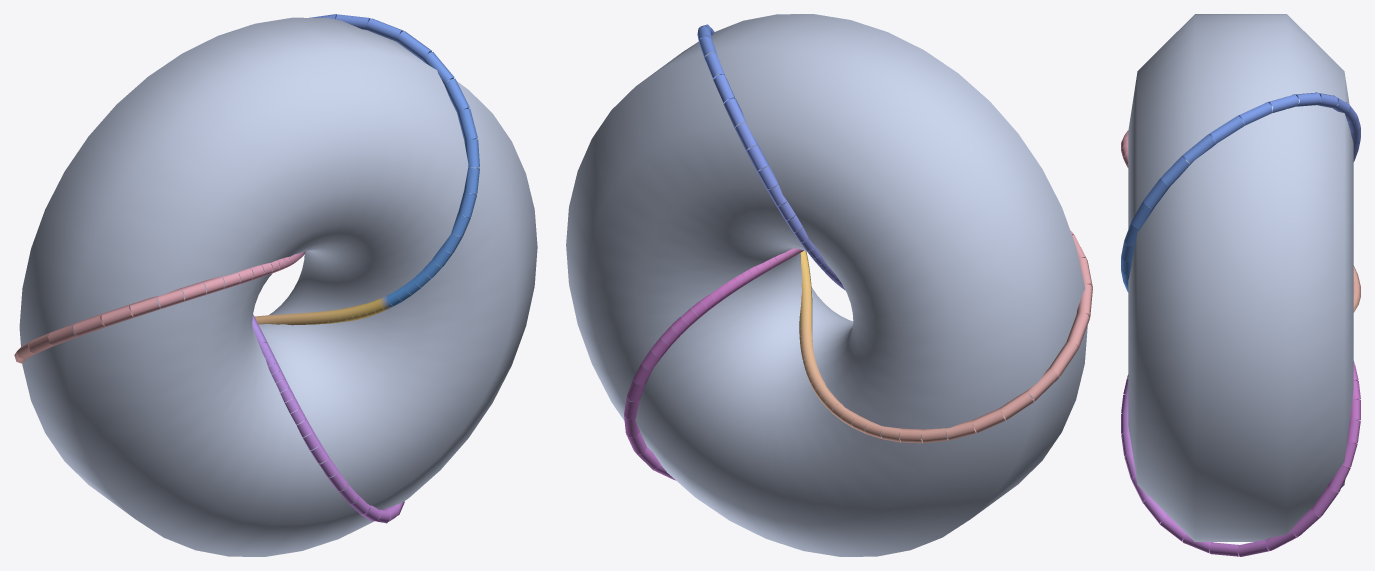
The model's file is example.gltf.
3 renders of one model, left to right at view 1: azimuth 30°, elevation 25°; view 2: azimuth 150°, elevation 25°; view 3: azimuth 270°, elevation 25°, orthographic. The views are drawn at different scales.
Parts seen in each view (by area): view 1: clifford_torus, torus_knot; view 2: clifford_torus, torus_knot; view 3: clifford_torus, torus_knot.
Part boxes in pixels (x1=…): clifford_torus: x1=19, y1=17, x2=537, y2=556; torus_knot: x1=14, y1=14, x2=479, y2=523; clifford_torus: x1=566, y1=14, x2=1087, y2=556; torus_knot: x1=624, y1=24, x2=1092, y2=480; clifford_torus: x1=1128, y1=14, x2=1353, y2=541; torus_knot: x1=1121, y1=92, x2=1360, y2=556.
Size of the model in its own units: 4.79 by 4.66 by 2.11.
